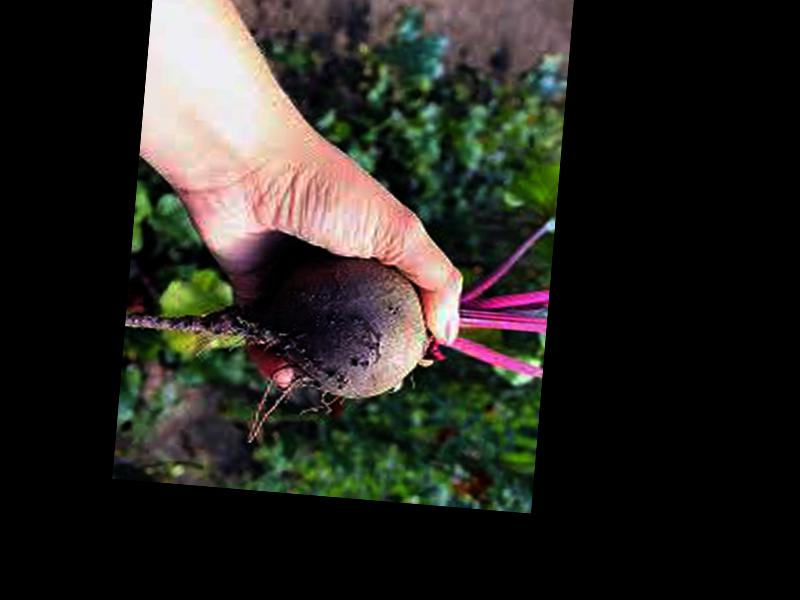Beet: (115, 180, 553, 468)
